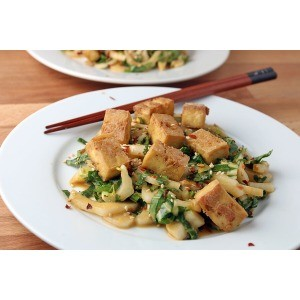tofu_brain food: (78, 94, 257, 233)
